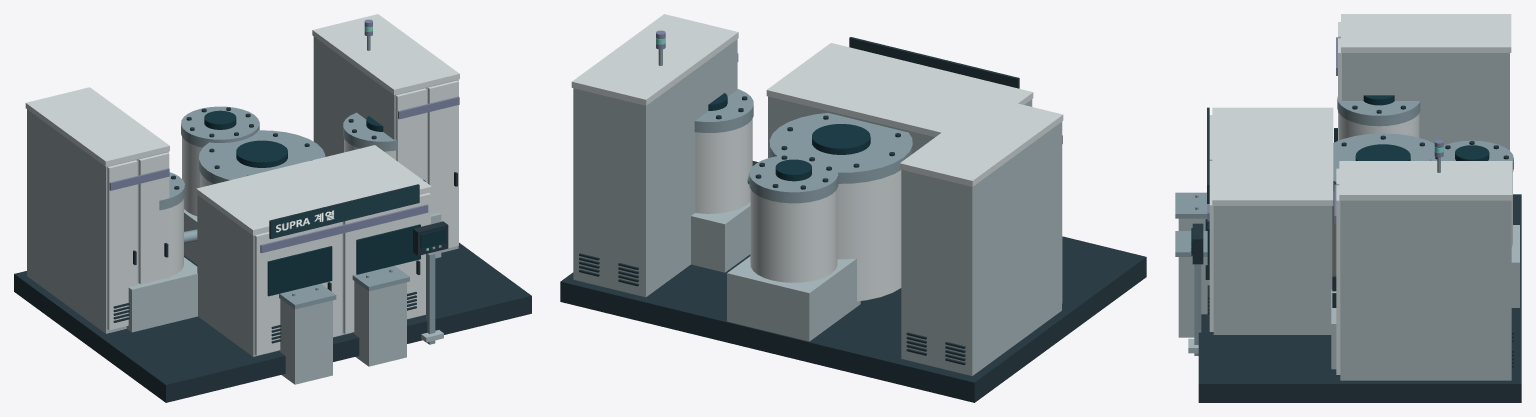
Rendered from psk-supra.glb.
3 views of the same model, side by side, from view 1: azimuth 30°, elevation 25°; view 2: azimuth 150°, elevation 25°; view 3: azimuth 270°, elevation 25° (orthographic). The views are drawn at different scales.
Visible parts, largest first — view 1: psk-supra, cabinet (×3), access_panel (×6), chassis, load_port (×2), process_chamber (×2), operator_stand, operator_panel; view 2: cabinet (×3), psk-supra, chassis, process_chamber (×3); view 3: cabinet (×3), psk-supra, chassis, access_panel (×2), load_port, process_chamber (×2), operator_stand, operator_panel.
Boxes of the visible parts, left/top/right/bottom form: psk-supra: left=25, top=14, right=459, bottom=343; cabinet (×3): left=27, top=36, right=458, bottom=356; access_panel (×6): left=107, top=80, right=458, bottom=355; chassis: left=14, top=242, right=531, bottom=402; load_port (×2): left=278, top=281, right=406, bottom=384; process_chamber (×2): left=169, top=137, right=202, bottom=276; operator_stand: left=426, top=252, right=435, bottom=344; operator_panel: left=413, top=221, right=448, bottom=255; cabinet (×3): left=573, top=39, right=1061, bottom=375; psk-supra: left=571, top=14, right=1063, bottom=365; chassis: left=560, top=161, right=1146, bottom=402; process_chamber (×3): left=695, top=119, right=901, bottom=301; cabinet (×3): left=1213, top=53, right=1511, bottom=380; psk-supra: left=1175, top=14, right=1519, bottom=369; chassis: left=1198, top=194, right=1521, bottom=402; access_panel (×2): left=1209, top=161, right=1340, bottom=374; load_port: left=1178, top=257, right=1209, bottom=337; process_chamber (×2): left=1332, top=113, right=1419, bottom=276; operator_stand: left=1194, top=264, right=1201, bottom=355; operator_panel: left=1192, top=223, right=1203, bottom=264.
Bounding box in the file's own units: 4.7 × 2.77 × 3.63.
Materials: 8 (1 with a texture image).
